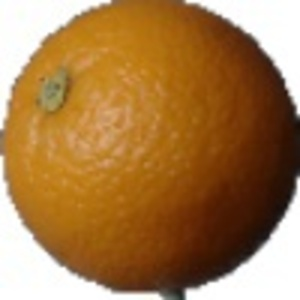laranja: (3, 3, 295, 298)
